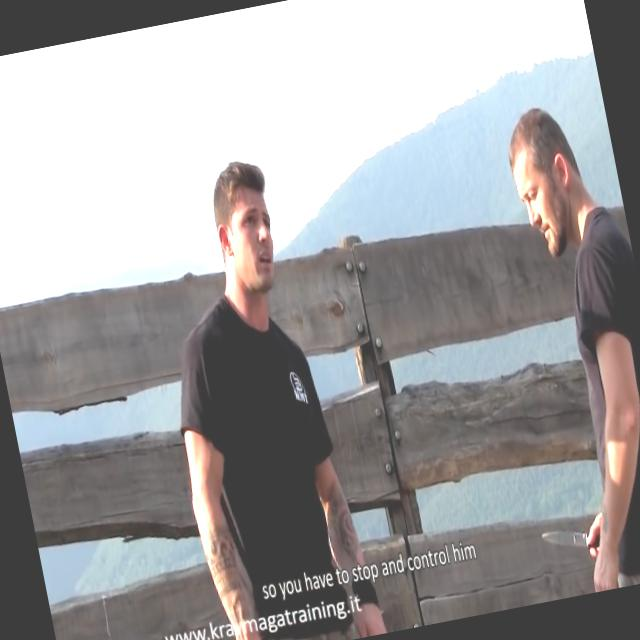knife: (532, 513, 608, 572)
